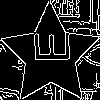E: (25, 30, 70, 64)
